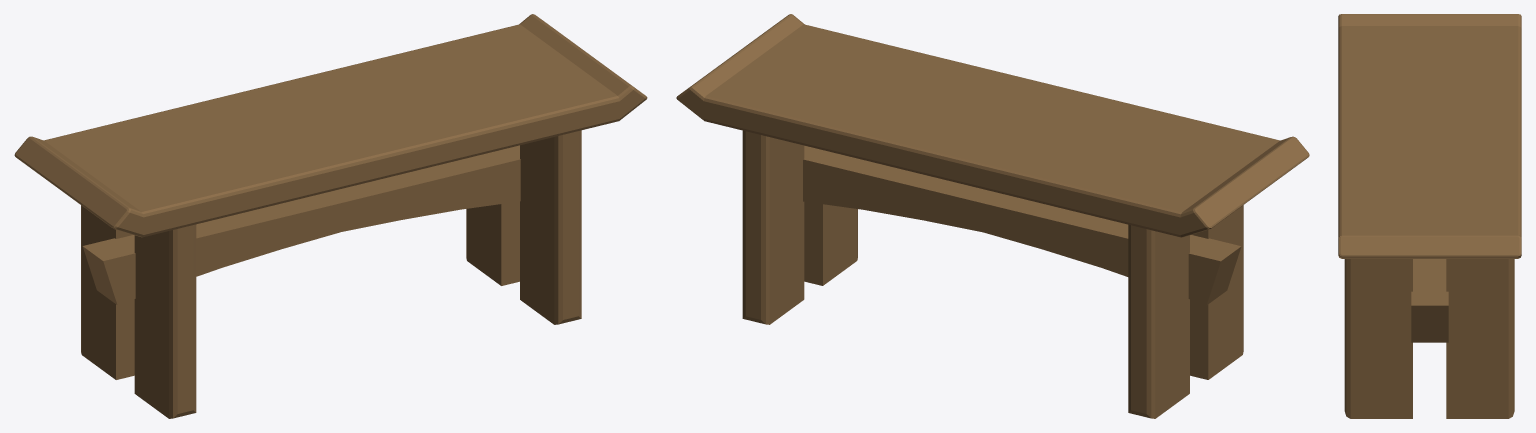
Rendered from Bench_2.fbx.
3 renders of one model, left to right at view 1: azimuth 30°, elevation 25°; view 2: azimuth 150°, elevation 25°; view 3: azimuth 270°, elevation 25°, orthographic. The views are drawn at different scales.
Visible parts, largest first — view 1: Bench_2; view 2: Bench_2; view 3: Bench_2.
Part boxes in pixels (left/top/right/bottom): Bench_2: left=14, top=14, right=647, bottom=418; Bench_2: left=676, top=14, right=1309, bottom=418; Bench_2: left=1338, top=14, right=1521, bottom=418.
Bounding box in the file's own units: 138 × 55.68 × 45.5.
